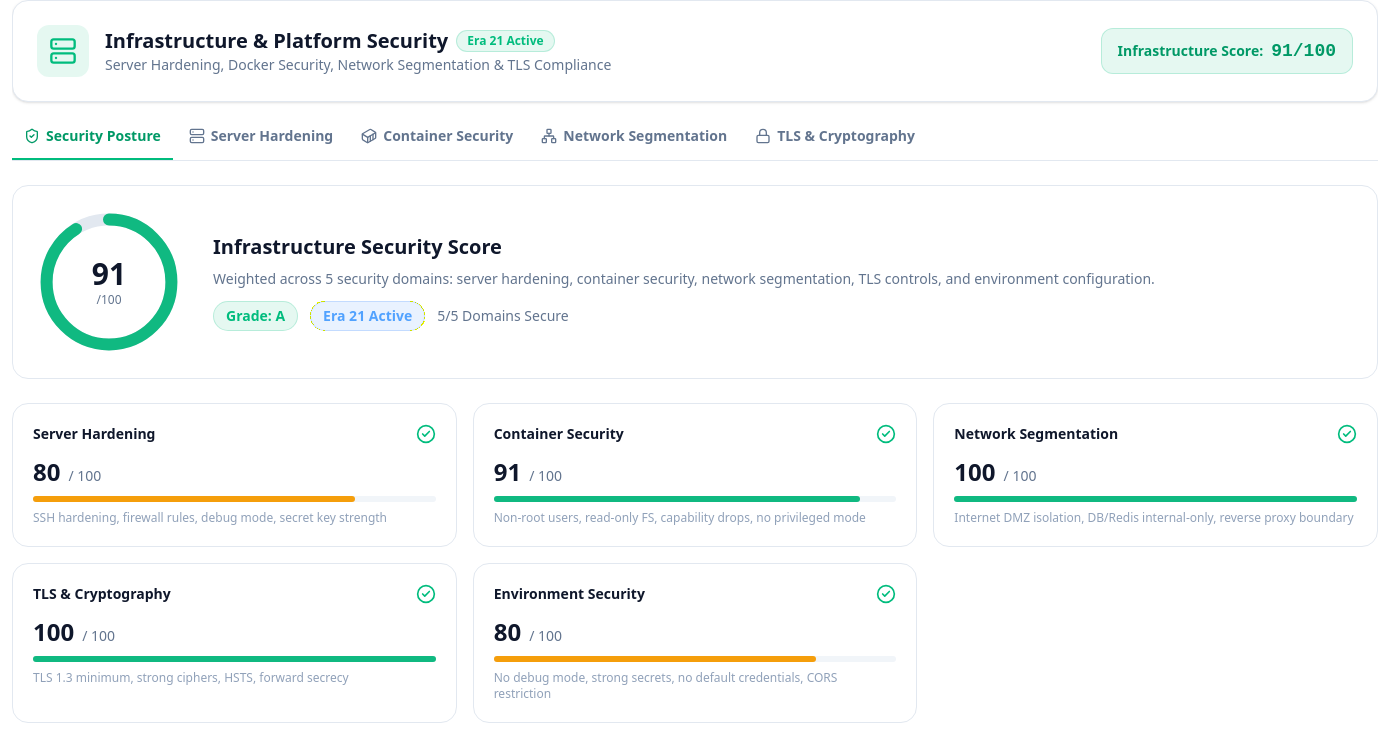
Scenario: InfrastructureSecurityDashboard › clicking Server Hardening tab shows hardening checks
Click the button "Server Hardening".
click(261, 143)  # box top-left (177, 126), bottom-right (345, 160)
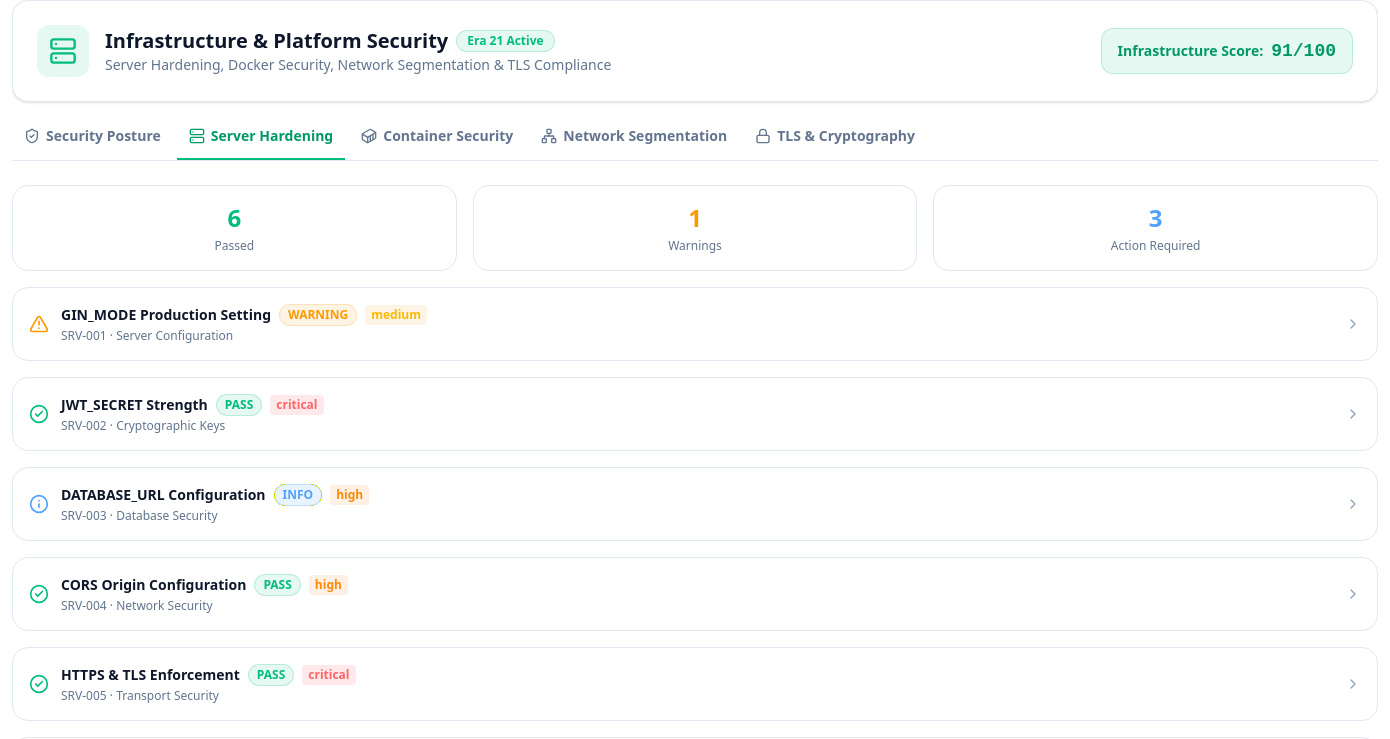
expect the text "GIN_MODE Production Setting" is shown: met, box top-left (61, 305), bottom-right (271, 325)
expect the text "JWT_SECRET Strength" is shown: met, box top-left (61, 395), bottom-right (208, 415)
expect the text "HTTPS & TLS Enforcement" is shown: met, box top-left (61, 665), bottom-right (240, 685)
